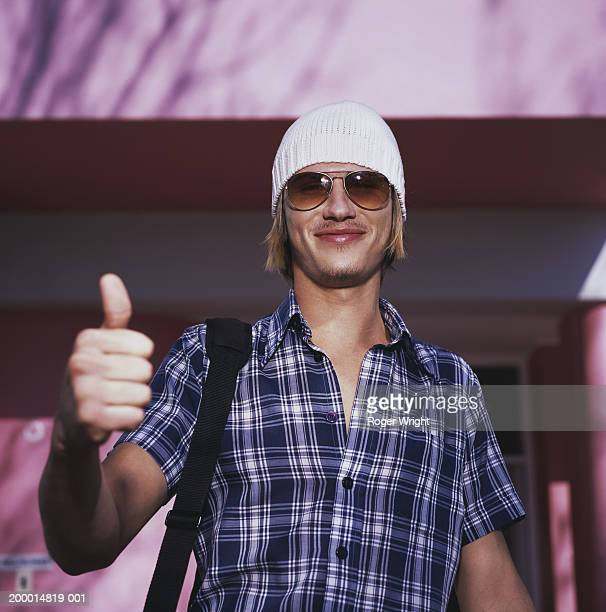thumbsUp: (57, 261, 157, 457)
